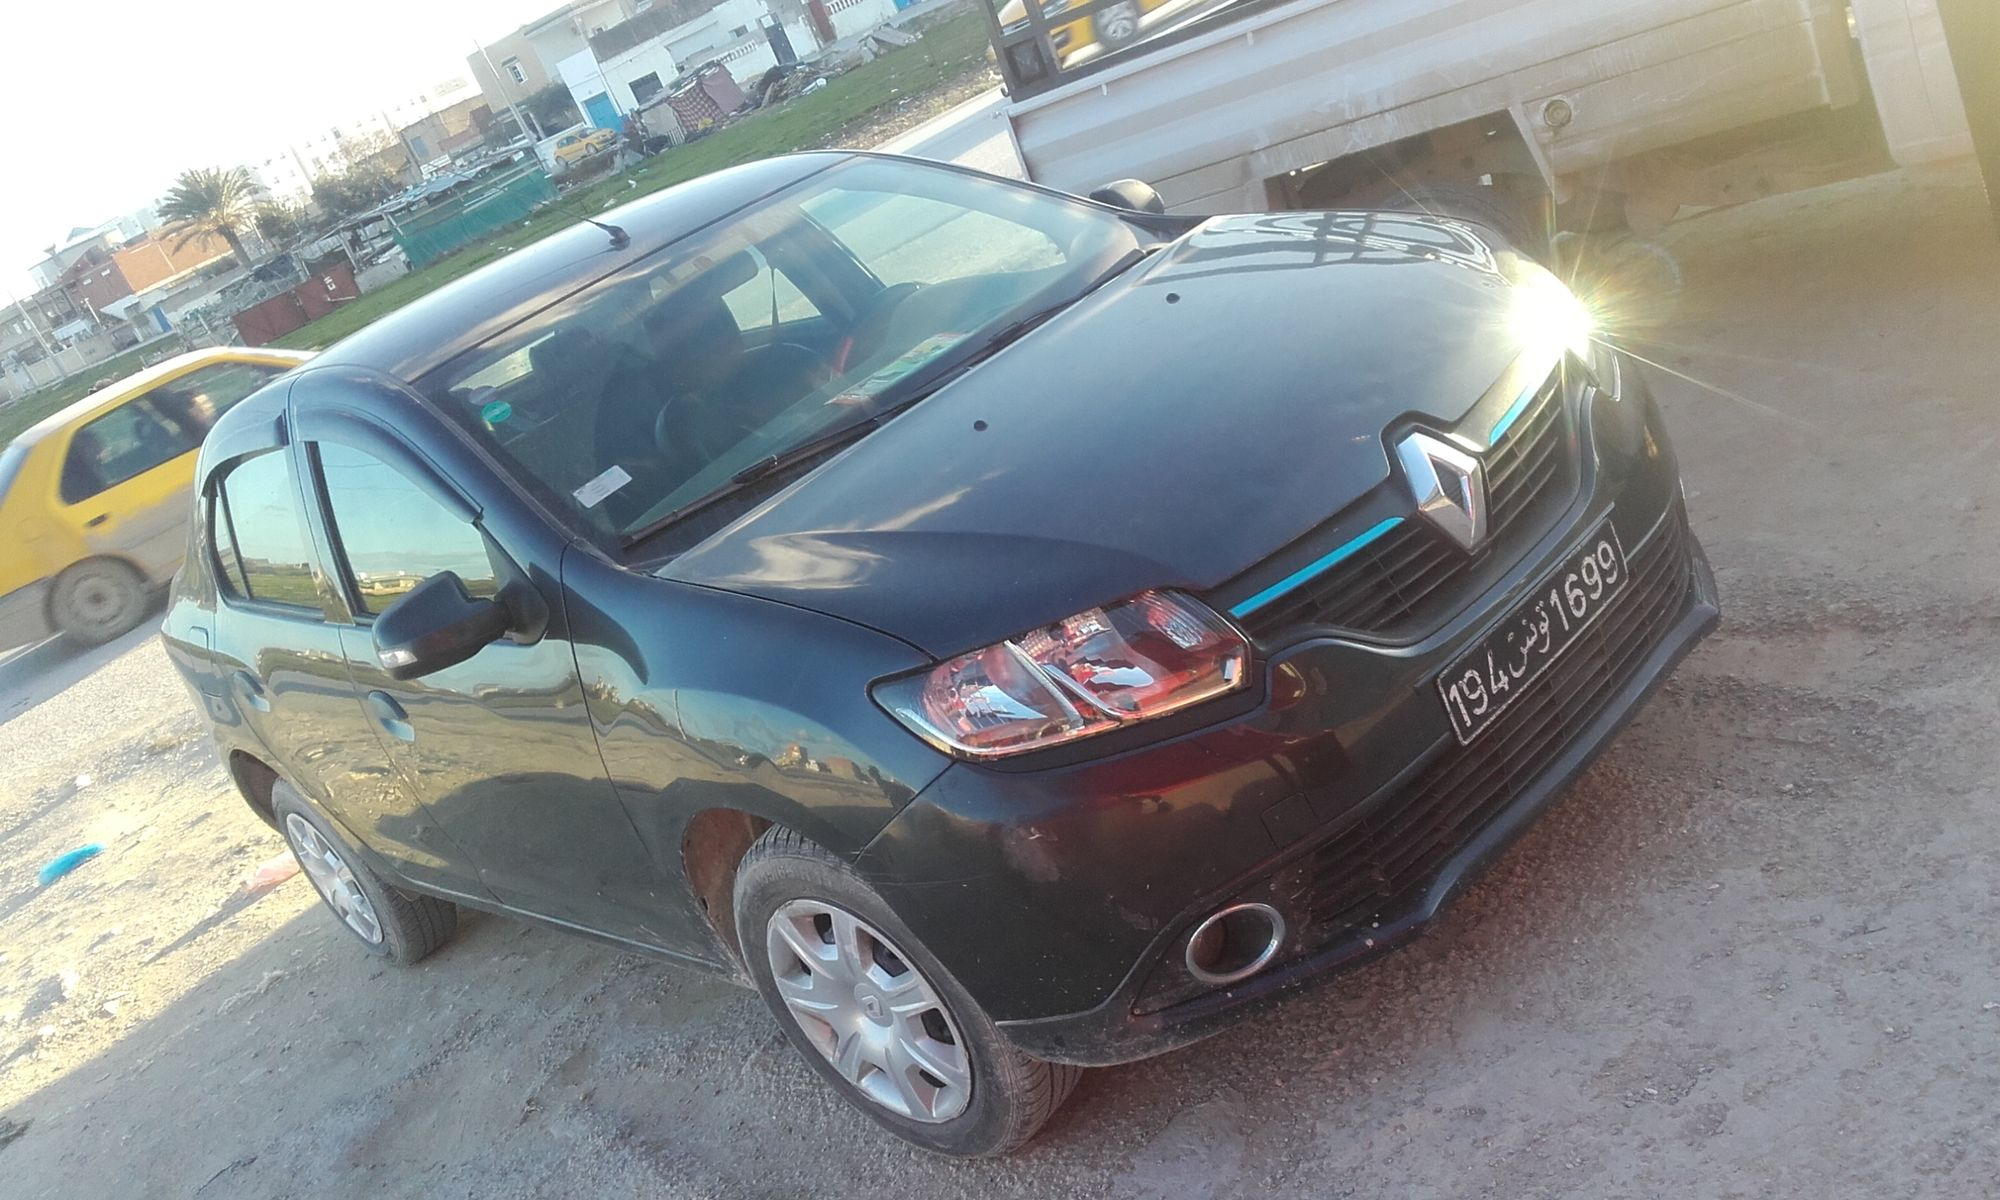LP: (1427, 516, 1634, 751)
